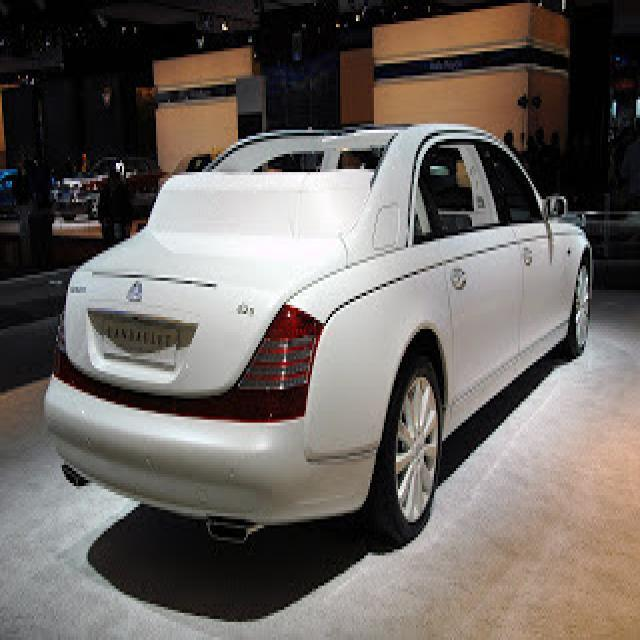Car: (21, 105, 619, 560)
